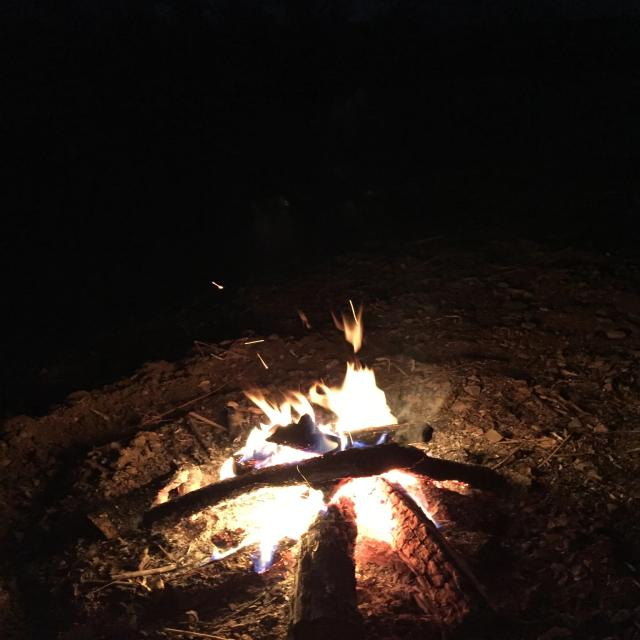fire: (202, 484, 330, 573), (330, 469, 439, 550), (309, 361, 398, 431), (233, 423, 323, 470), (242, 391, 314, 426), (332, 302, 363, 353)
